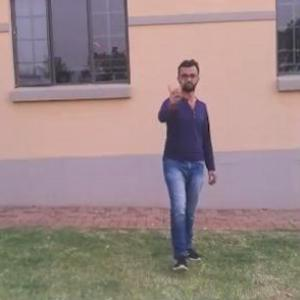takeoff-hand: (163, 74, 188, 106)
